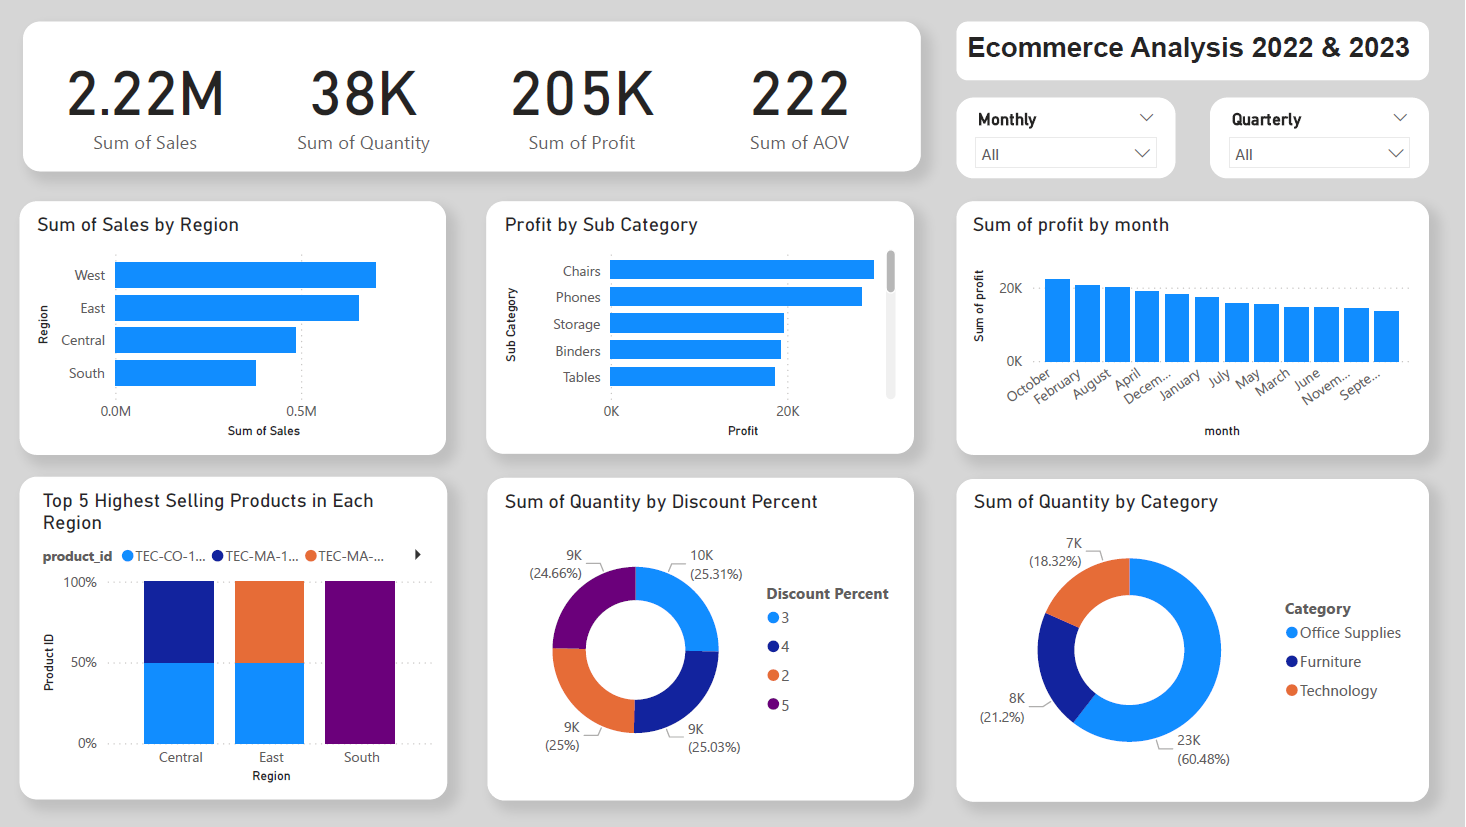

What the dashboard file says about the page in this screenshot:
{"tool":"powerbi","page":{"name":"Ecommerce Analysis","canvas":[1280,720],"ordinal":0},"visuals":[{"type":"shape","box":[29.1,19.3,779.1,130.1],"z":0},{"type":"shape","box":[26.4,414.2,370.9,279.8],"z":1000},{"type":"shape","box":[431.5,414.7,370.9,280],"z":2000},{"type":"shape","box":[839.3,415.5,410,280],"z":3000},{"type":"shape","box":[839.3,174.7,410,220],"z":4000},{"type":"shape","box":[26.4,174.7,370,220],"z":5000},{"type":"shape","box":[431.1,174.8,370.9,219.6],"z":6000},{"type":"hundredPercentStackedColumnChart","title":"Top 5 Highest Selling Products in Each Region","fields":{"Category":["Top_5_Sales.region"],"Y":["CountNonNull(Top_5_Sales.product_id)"],"Series":["Top_5_Sales.product_id"]},"box":[41,424.1,350,260],"z":7000},{"type":"card","fields":{"Values":["Sum(public sales_data.sale_price)"]},"box":[39.7,29.8,190.3,109],"z":8000,"group":"g1"},{"type":"clusteredBarChart","fields":{"Y":["Sum(public sales_data.sale_price)"],"Category":["public sales_data.region"]},"box":[36.4,184.7,350,200],"z":8000},{"type":"donutChart","fields":{"Y":["Sum(public sales_data.quantity)"],"Category":["public sales_data.category"]},"box":[849.2,425.4,390,260.2],"z":9000},{"type":"card","fields":{"Values":["Sum(public sales_data.quantity)"]},"box":[230,29.8,188.7,109],"z":10000,"group":"g1"},{"type":"donutChart","fields":{"Y":["Sum(public sales_data.quantity)"],"Category":["public sales_data.discount_percent"]},"box":[442,424.7,350,260],"z":10000},{"type":"clusteredBarChart","fields":{"Y":["Sum(public sales_data.profit)"],"Category":["public sales_data.sub_category"]},"box":[441.7,184.6,349.7,200.1],"z":11000},{"type":"card","fields":{"Values":["Sum(public sales_data.profit)"]},"box":[418.7,29.8,190.3,109],"z":12000,"group":"g1"},{"type":"clusteredColumnChart","fields":{"Category":["public sales_data.month"],"Y":["Sum(public sales_data.profit)"]},"box":[847.9,184.7,390.4,200.1],"z":12000},{"type":"slicer","fields":{"Values":["public sales_data.quarter"]},"box":[1058.9,85,190.3,69.9],"z":13000},{"type":"group","id":"g1","title":"Group 1","box":[39.7,29.8,758,109],"z":14000},{"type":"textbox","box":[839.3,19.3,409.9,50.4],"z":15000},{"type":"slicer","fields":{"Values":["public sales_data.order_date.Variation.Date Hierarchy.Month"]},"box":[839.3,85,190,70],"z":16000},{"type":"card","fields":{"Values":["public sales_data.AOV"]},"box":[607.4,29.8,190.3,109],"z":18000,"group":"g1"}]}

Visuals, with their boxes in screenshot pixels (x1, y1, x2, y2), scaled from the page's 1280x720 canvas onto the 1466x827 screenshot:
shape: 33 22 926 172
shape: 30 476 455 797
shape: 494 476 919 798
shape: 961 477 1431 799
shape: 961 201 1431 453
shape: 30 201 454 453
shape: 494 201 919 453
"Top 5 Highest Selling Products in Each Region" hundredPercentStackedColumnChart: 47 487 448 786
card - Sum(public sales_data.sale_price): 45 34 263 159
clusteredBarChart - Sum(public sales_data.sale_price) x public sales_data.region: 42 212 443 442
donutChart - Sum(public sales_data.quantity) x public sales_data.category: 973 489 1419 787
card - Sum(public sales_data.quantity): 263 34 480 159
donutChart - Sum(public sales_data.quantity) x public sales_data.discount_percent: 506 488 907 786
clusteredBarChart - Sum(public sales_data.profit) x public sales_data.sub_category: 506 212 906 442
card - Sum(public sales_data.profit): 480 34 697 159
clusteredColumnChart - public sales_data.month x Sum(public sales_data.profit): 971 212 1418 442
slicer - public sales_data.quarter: 1213 98 1431 178
"Group 1" group: 45 34 914 159
textbox: 961 22 1431 80
slicer - public sales_data.order_date.Variation.Date Hierarchy.Month: 961 98 1179 178
card - public sales_data.AOV: 696 34 914 159
